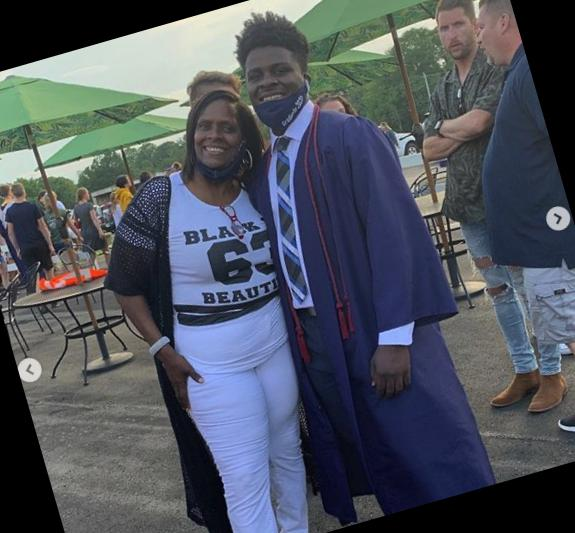mask_weared_incorrect: (235, 51, 312, 126), (189, 104, 252, 180)
without_mask: (472, 6, 516, 65), (433, 10, 480, 63)
